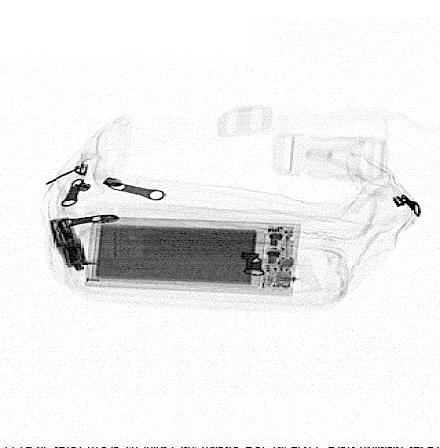Powerbank: (84, 213, 303, 297)
